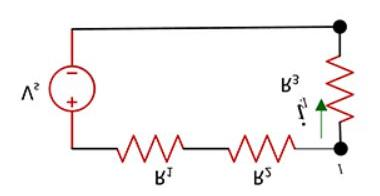resistor: (105, 127, 192, 166), (221, 130, 299, 169), (321, 51, 361, 123)
